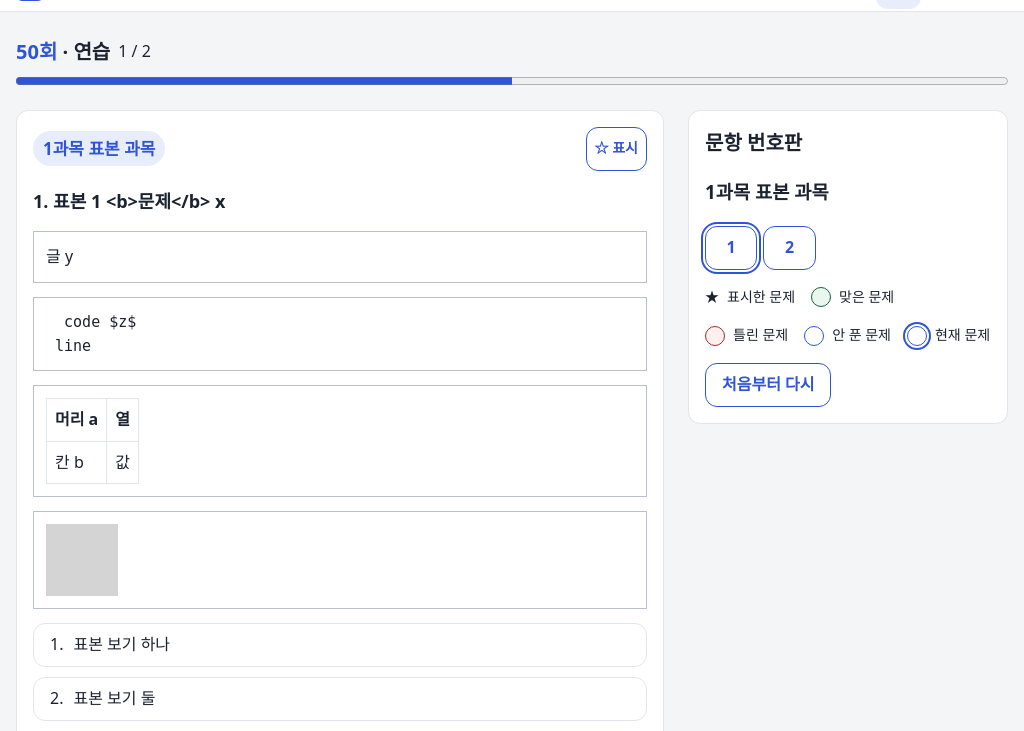
Test: grades selection 1 once and preserves state through navigation
Check: the heading "50회 · 연습" is shown, box [16, 36, 110, 68]
Click the button "1. 표본 보기 하나" at (122, 644), box [33, 623, 647, 667]
(page scrolled)
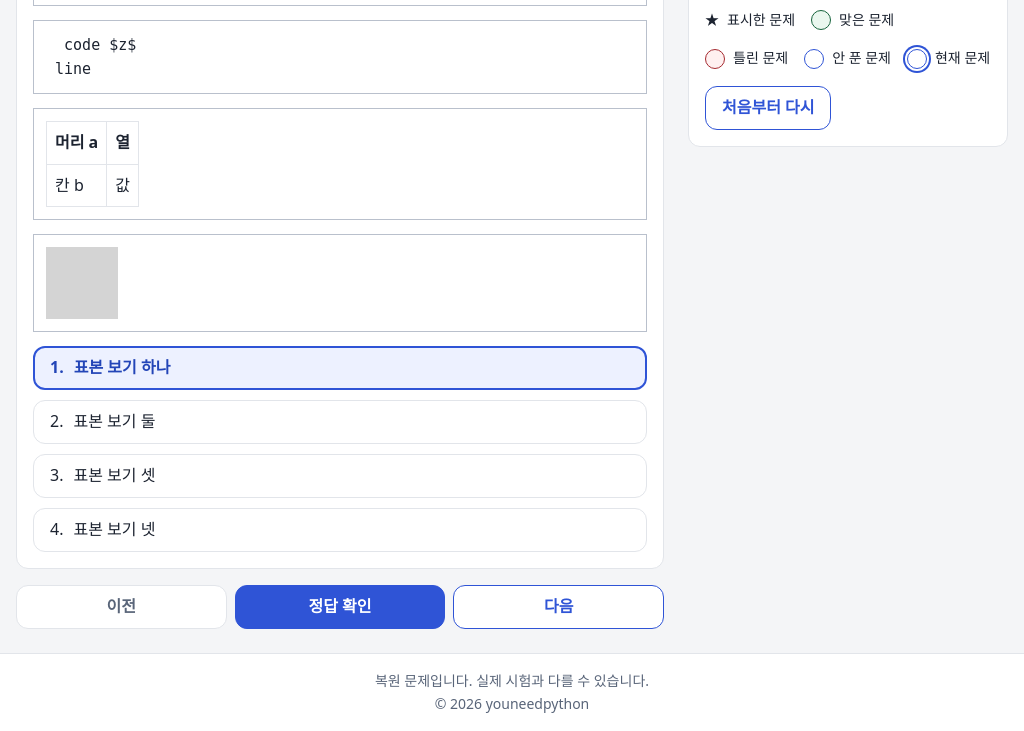
Click the button "정답 확인" at (340, 607), box [235, 585, 445, 629]
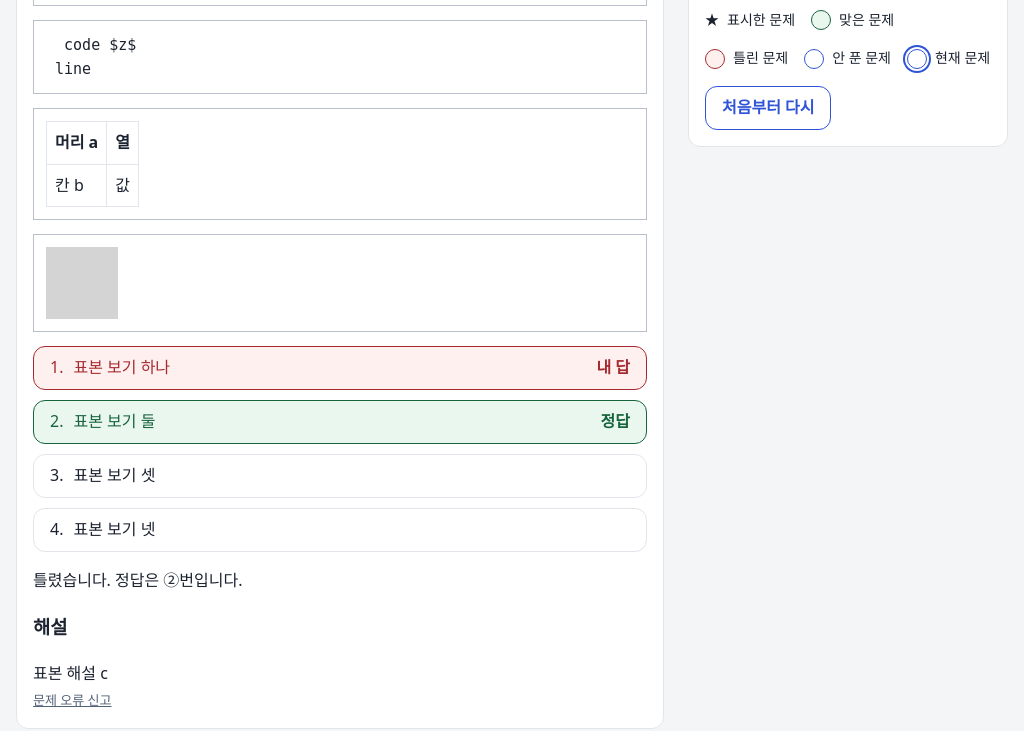
Check: the message reads "틀렸습니다. 정답은 ②번입니다.", box [33, 569, 242, 591]
Check: the text "정답" is shown, box [600, 409, 630, 435]
Check: the heading "해설" is shown, box [33, 614, 67, 640]
Click the button "3. 표본 보기 셋" at (114, 475), box [33, 454, 647, 498]
(page scrolled)
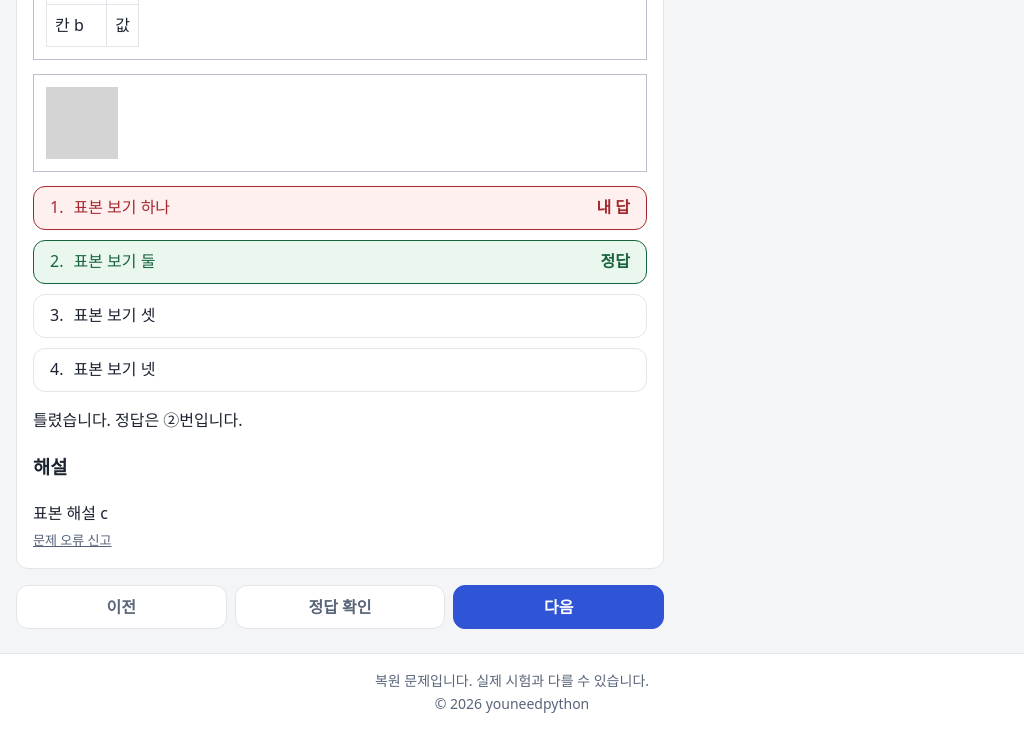
Check: the message reads "틀렸습니다. 정답은 ②번입니다.", box [33, 409, 242, 431]
Click the button "다음" at (559, 607), box [453, 585, 664, 629]
(page scrolled)
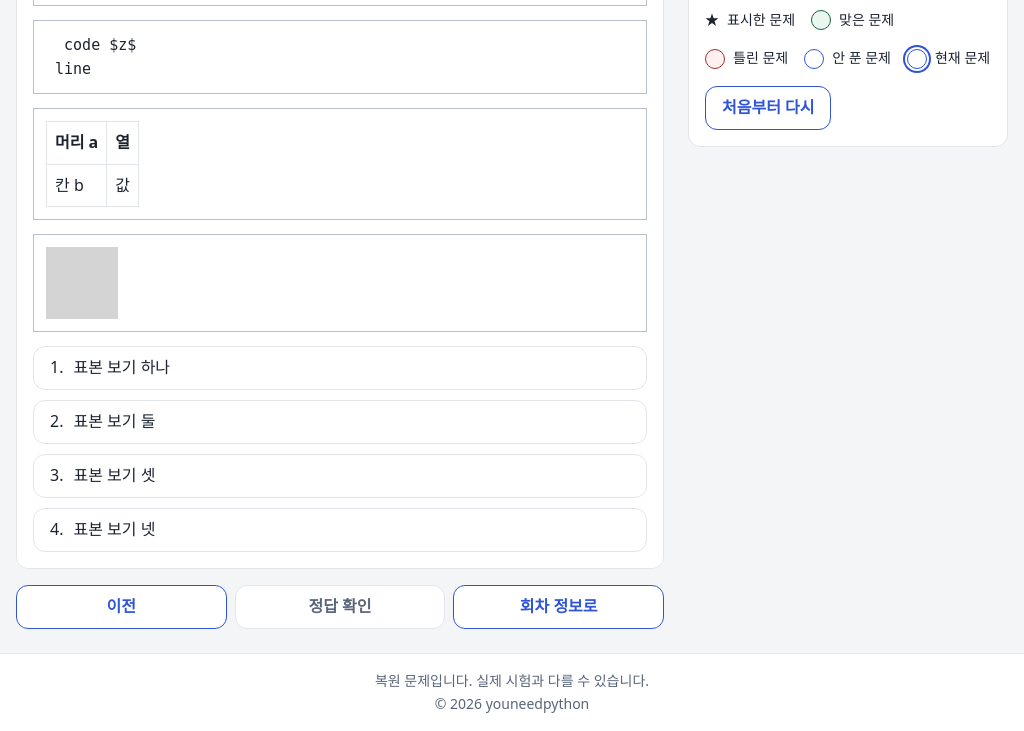
Check: the link "회차 정보로" is shown, box [453, 585, 664, 629]
Check: the button "다음" is gone
Click the button "이전" at (121, 607), box [16, 585, 227, 629]
(page scrolled)
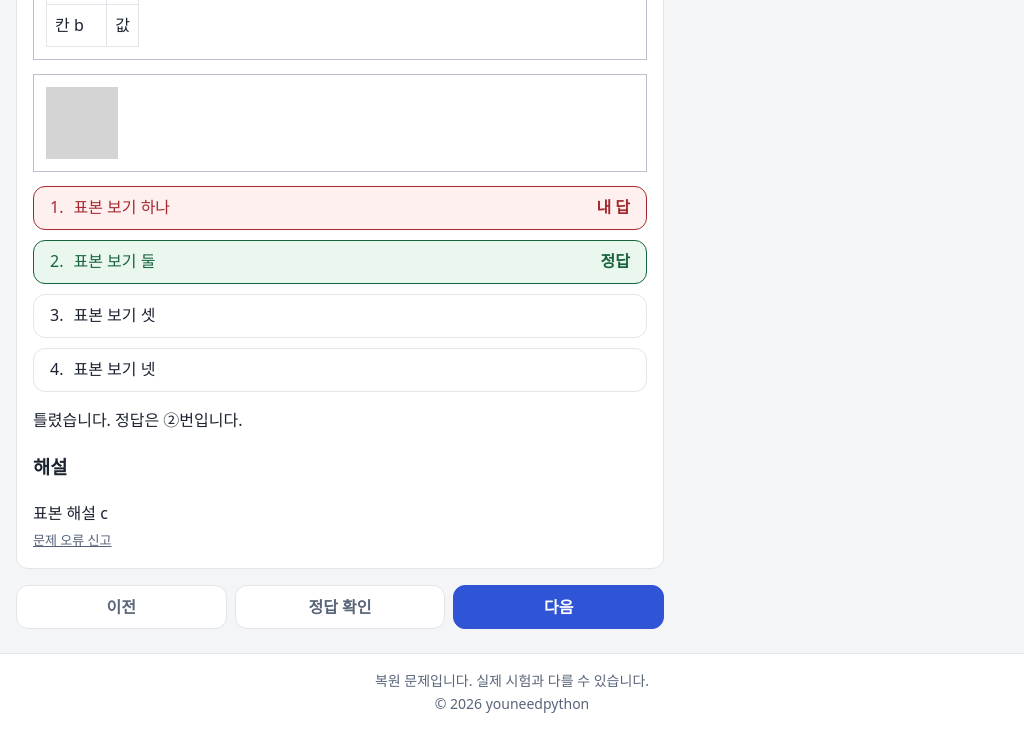
Check: the message shows "틀렸습니다", box [33, 409, 242, 431]
